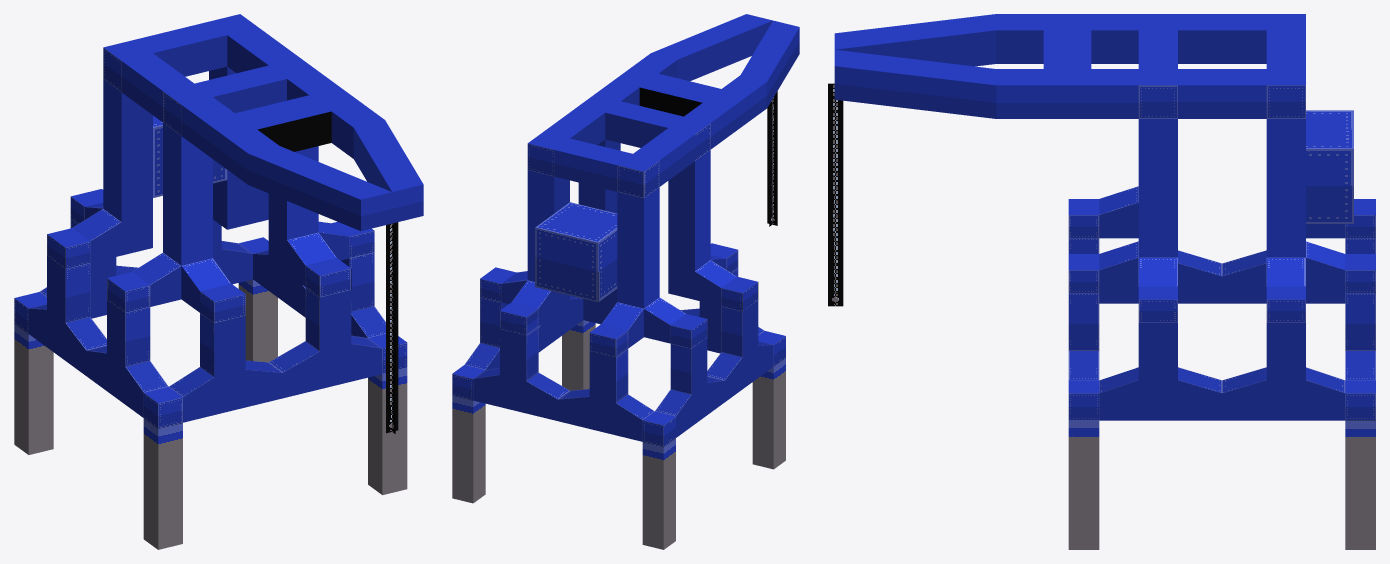
File: CraneNoWheelsShaded.glb
3 views of the same model, side by side, from view 1: azimuth 30°, elevation 25°; view 2: azimuth 150°, elevation 25°; view 3: azimuth 270°, elevation 25° (orthographic). The views are drawn at different scales.
Visible parts, largest first — view 1: Cube, Cube.001; view 2: Cube, Cube.001; view 3: Cube, Cube.001.
Part boxes in pixels (x1,y1,x2,y2): Cube: (14, 14, 423, 549); Cube.001: (386, 222, 398, 433); Cube: (452, 14, 799, 549); Cube.001: (767, 91, 777, 226); Cube: (834, 14, 1375, 549); Cube.001: (828, 83, 843, 306).
Size of the model in its own units: 40 by 62.51 by 71.3.
1 material, 1 textured.
